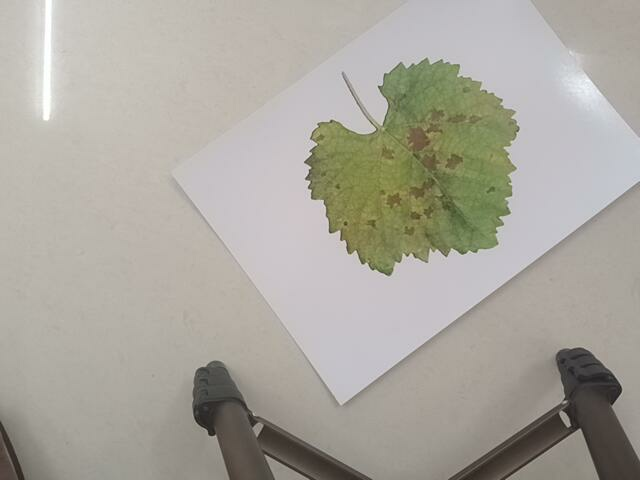Grape_Leaf_Vine_Disease: (294, 57, 537, 267)
